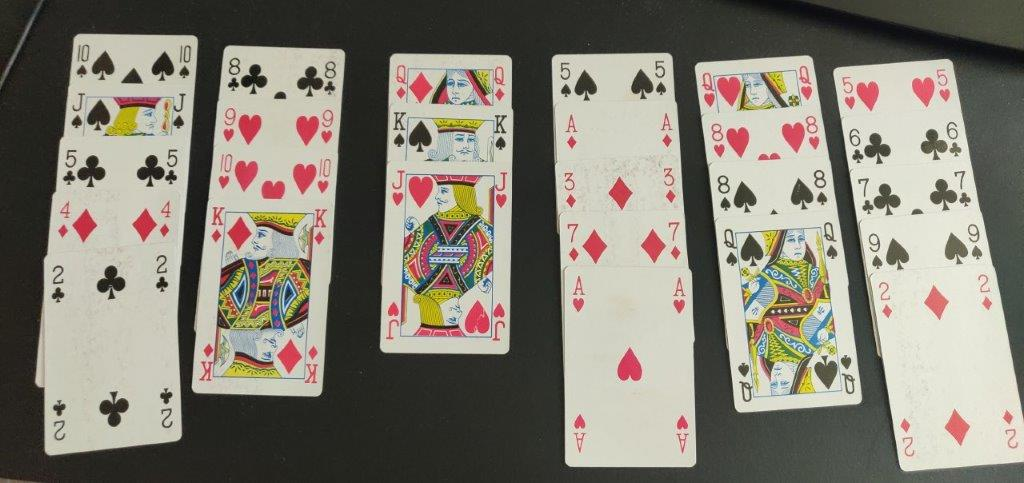10H: (316, 156, 335, 198), (216, 150, 233, 192)
10S: (71, 41, 92, 84), (174, 40, 193, 85)
2C: (45, 262, 71, 307), (150, 253, 173, 297)
2D: (874, 280, 897, 320), (974, 268, 996, 309)
3D: (561, 168, 582, 211), (660, 162, 678, 206)
4D: (156, 199, 173, 239), (57, 198, 72, 242)
5C: (60, 144, 80, 190), (162, 146, 181, 190)
5H: (836, 72, 859, 113), (937, 66, 953, 101)
5S: (557, 58, 575, 101), (653, 58, 669, 97)
6C: (941, 117, 965, 160), (845, 124, 867, 166)
7C: (951, 166, 974, 209), (857, 175, 876, 214)
7D: (563, 219, 584, 266), (666, 218, 684, 261)
8C: (321, 57, 339, 98), (224, 54, 241, 93)
8H: (707, 122, 731, 162), (804, 115, 825, 152)
8S: (714, 169, 734, 214), (812, 165, 831, 208)
9H: (218, 105, 238, 148), (318, 105, 337, 145)
9S: (863, 230, 885, 275), (963, 219, 986, 262)
AD: (561, 108, 583, 154), (658, 110, 676, 151)
AH: (567, 272, 590, 317), (667, 275, 690, 318)
JH: (388, 166, 408, 207), (492, 171, 512, 211)
JS: (169, 92, 192, 133), (67, 90, 86, 132)
KD: (311, 206, 333, 248), (207, 205, 228, 244)
KS: (490, 109, 512, 152), (388, 107, 410, 149)
QD: (392, 62, 410, 104), (491, 64, 510, 102)
QH: (796, 62, 817, 105), (698, 71, 718, 109)
QS: (718, 223, 741, 272), (820, 219, 841, 262)
